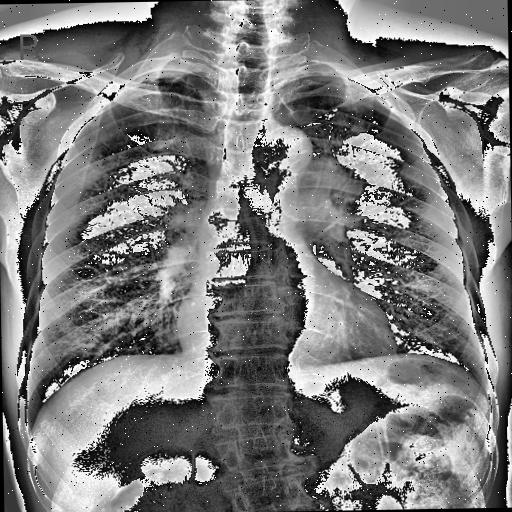0- Aortic enlargement: (254, 123, 312, 198), (250, 122, 317, 186), (258, 126, 314, 177)
11- Pleural thickening: (100, 58, 204, 105), (114, 55, 211, 95), (296, 67, 364, 90), (123, 70, 196, 83), (292, 72, 352, 86)
4- Consolidation: (300, 157, 368, 237)
7- Lung Opacity: (294, 154, 372, 246), (291, 155, 367, 238)
8- Nodule-Mass: (294, 154, 372, 246)
